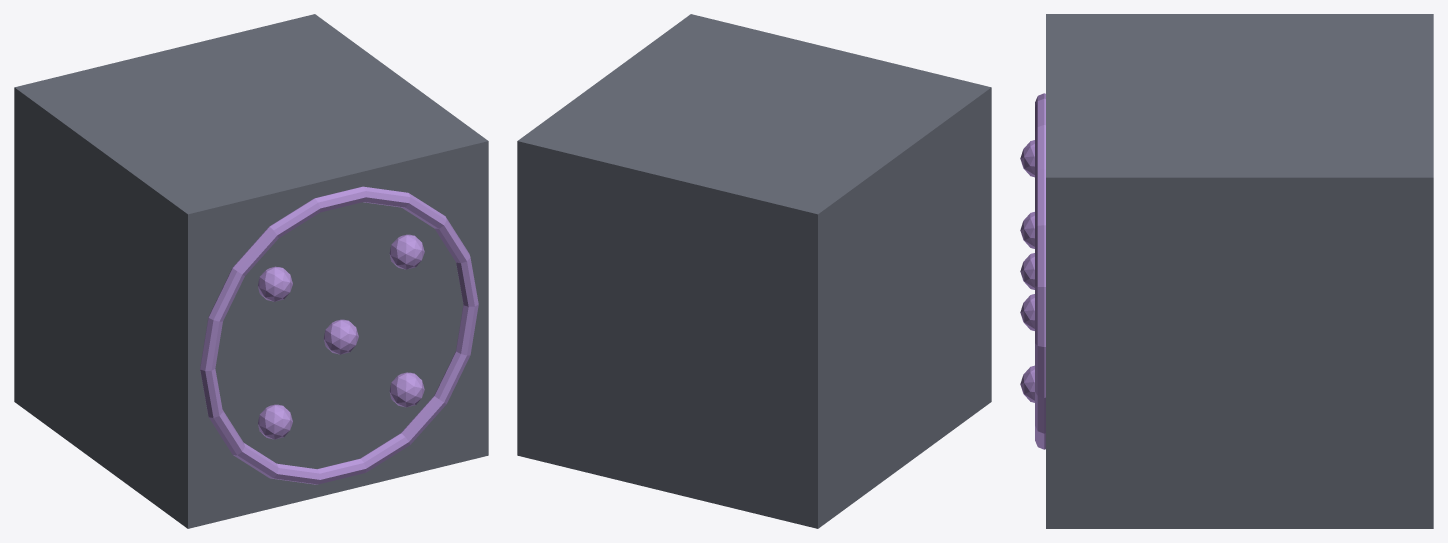
Rendered from loch.glb.
The picture shows the model from 3 angles, left to right: view 1: azimuth 30°, elevation 25°; view 2: azimuth 150°, elevation 25°; view 3: azimuth 270°, elevation 25°; orthographic projection. The views are drawn at different scales.
Parts seen in each view (by area): view 1: world; view 2: world; view 3: world.
Part boxes in pixels (bbox=[...]): world: bbox=[14, 14, 488, 528]; world: bbox=[517, 14, 991, 528]; world: bbox=[1020, 14, 1433, 528].
Size of the model in its own units: 1.05 by 1.05 by 1.12.
